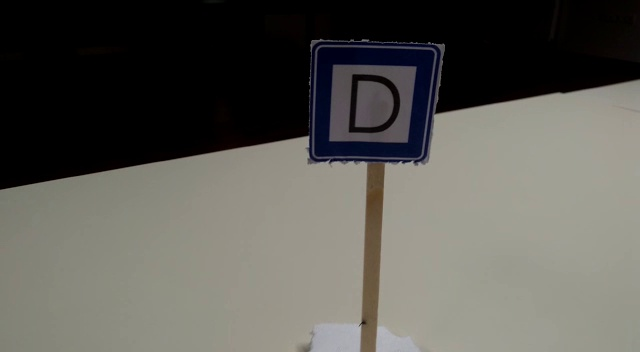durak: (307, 42, 442, 162)
